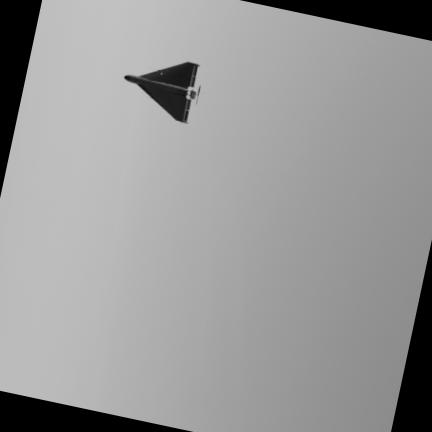Shahed: (124, 63, 200, 123)
